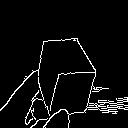cube: (29, 31, 100, 118)
